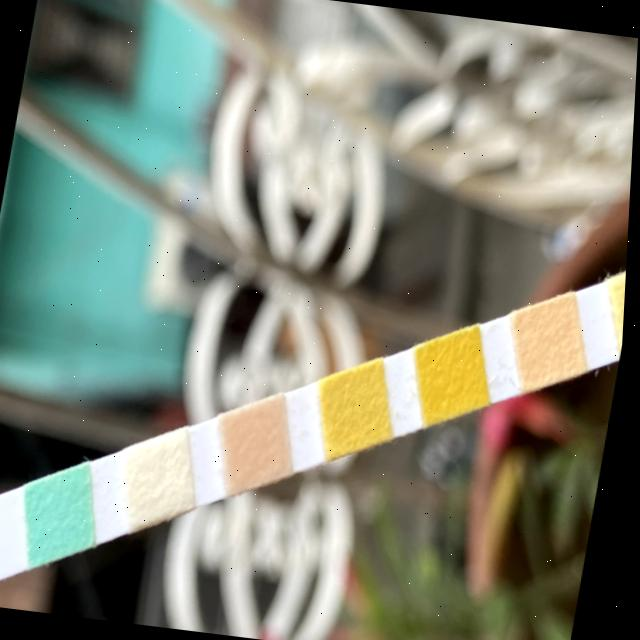Bilirubin: (130, 447, 194, 507)
Blood: (423, 343, 485, 408)
Glucose: (32, 481, 99, 542)
Ketone: (229, 413, 291, 473)
Protein: (617, 274, 629, 337)
SpGravity: (329, 377, 390, 438)
pH: (523, 308, 582, 373)
